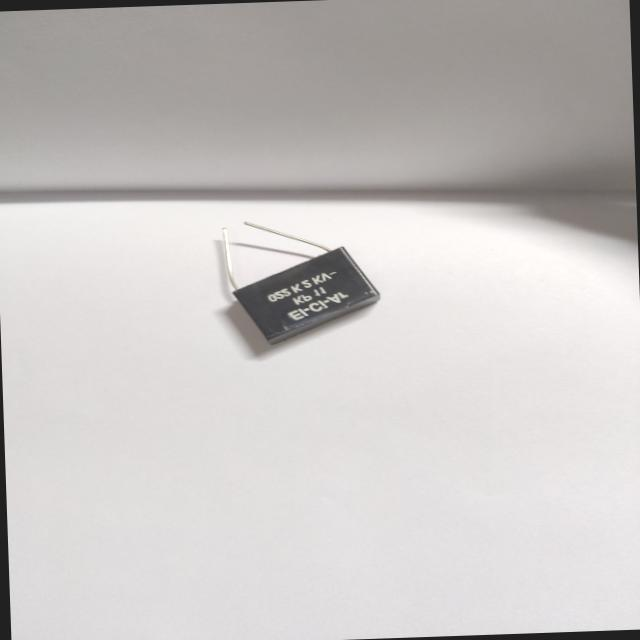capacitor: (198, 205, 398, 358)
